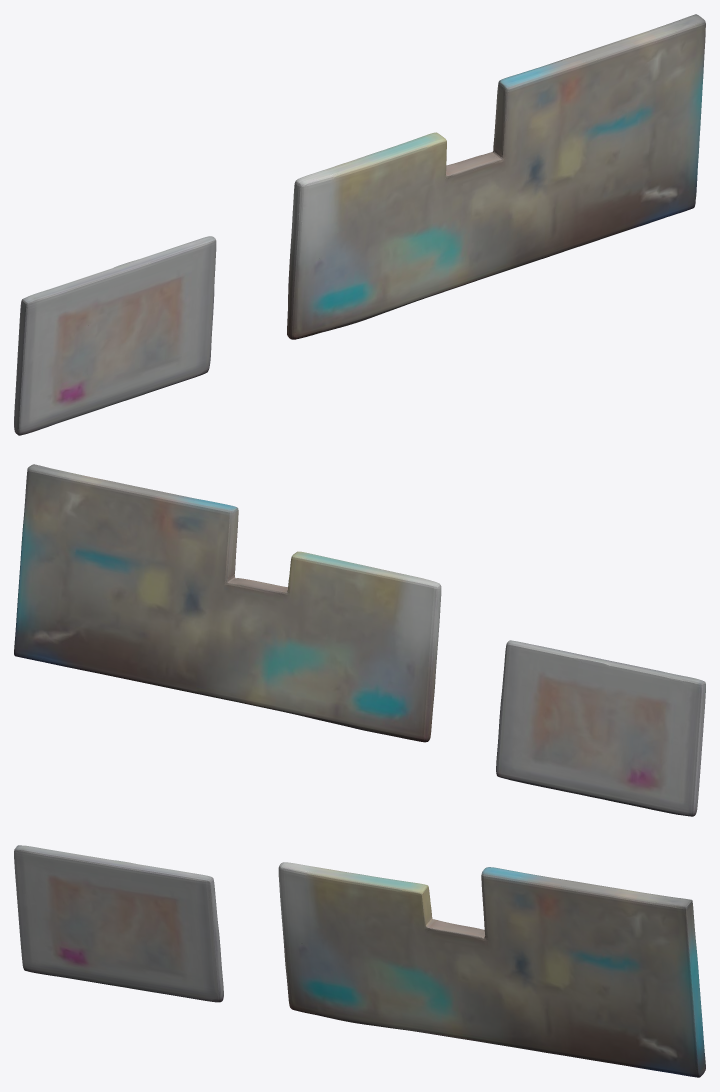
The model's file is abstract_artwork_on_dresser_000.glb.
The picture shows the model from 3 angles, top to bottom: view 1: azimuth 30°, elevation 25°; view 2: azimuth 150°, elevation 25°; view 3: azimuth 330°, elevation 25°; orthographic projection. The views are drawn at different scales.
Visible parts, largest first — view 1: abstract_artwork_on_dresser_000.obj; view 2: abstract_artwork_on_dresser_000.obj; view 3: abstract_artwork_on_dresser_000.obj.
Part boxes in pixels (<box>): abstract_artwork_on_dresser_000.obj: <box>14,14,705,435</box>; abstract_artwork_on_dresser_000.obj: <box>14,464,705,816</box>; abstract_artwork_on_dresser_000.obj: <box>14,845,705,1077</box>.
Bounding box in the file's own units: 0.7423 × 0.2292 × 0.0927.
1 material, 1 textured.
